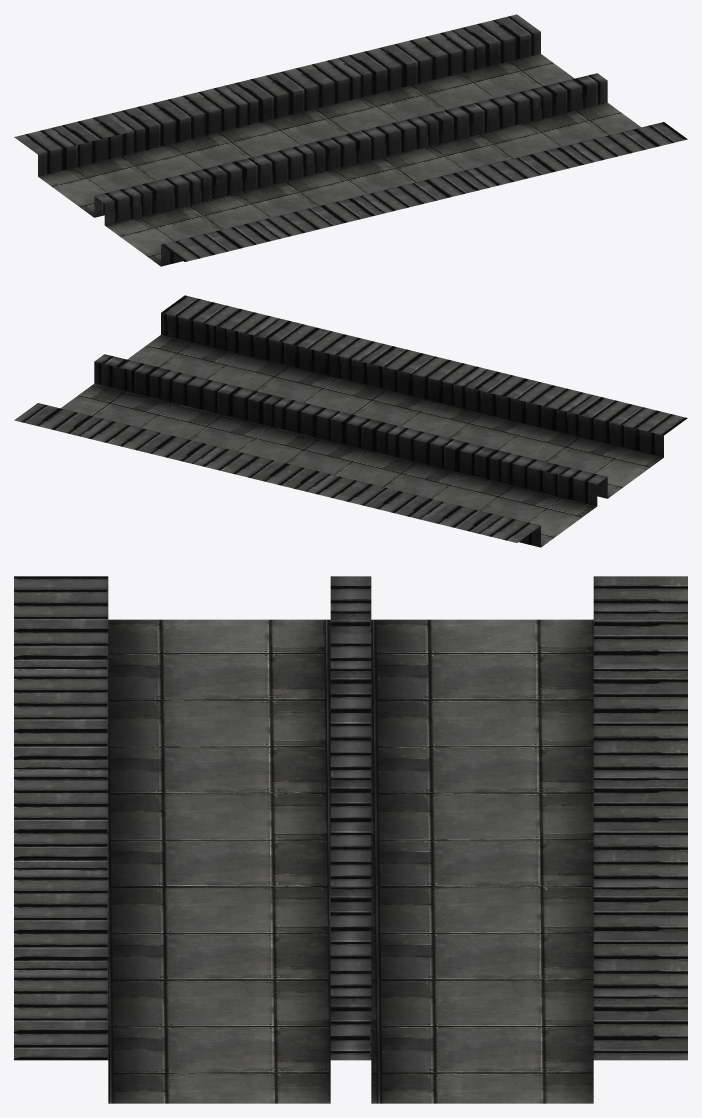
The model's file is Floor.fbx.
The picture shows the model from 3 angles, top to bottom: view 1: azimuth 30°, elevation 25°; view 2: azimuth 150°, elevation 25°; view 3: azimuth 270°, elevation 25°; orthographic projection. The views are drawn at different scales.
Parts seen in each view (by area): view 1: Cube_008; view 2: Cube_008; view 3: Cube_008.
Boxes of the visible parts, x1,y1,x2,y2 form: Cube_008: (14, 14, 687, 266); Cube_008: (14, 295, 687, 547); Cube_008: (14, 576, 687, 1103).
Size of the model in its own units: 3.4 by 0.142 by 2.
